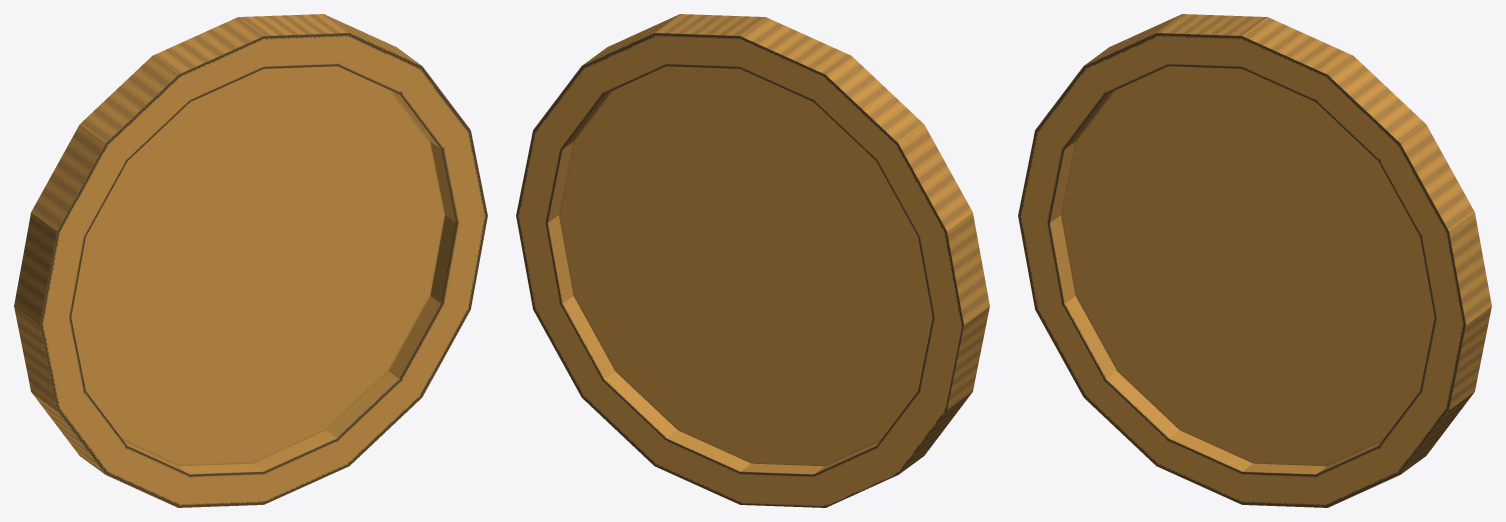
The model's file is Coin.fbx.
3 renders of one model, left to right at view 1: azimuth 30°, elevation 25°; view 2: azimuth 150°, elevation 25°; view 3: azimuth 330°, elevation 25°, orthographic.
Parts seen in each view (by area): view 1: Coin; view 2: Coin; view 3: Coin.
Boxes of the visible parts, <box> form: Coin: <box>14,14,487,507</box>; Coin: <box>516,14,989,507</box>; Coin: <box>1018,14,1491,507</box>.
Bounding box in the file's own units: 100 × 100 × 10.
